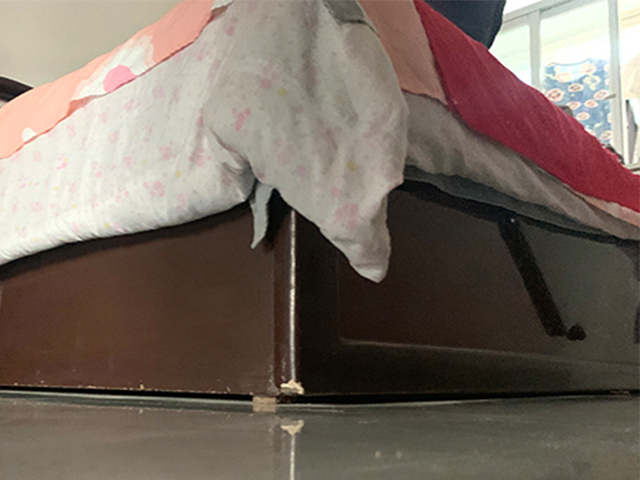bed: (1, 1, 639, 406)
